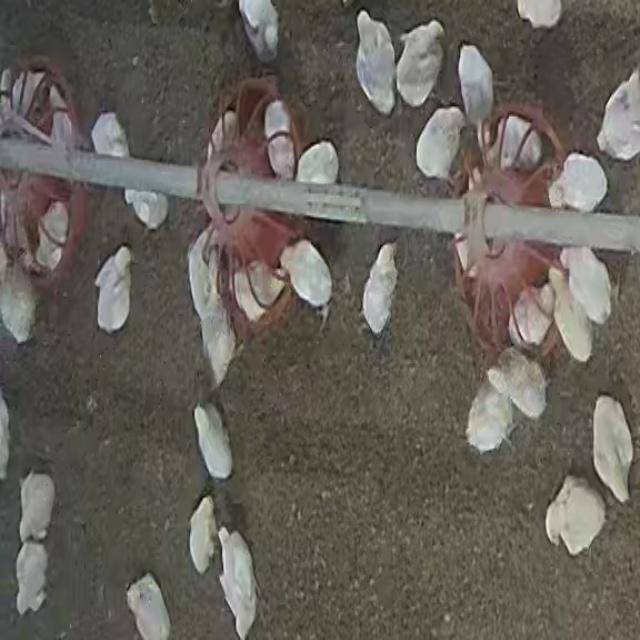chicken: (546, 476, 606, 556), (354, 9, 399, 115), (545, 266, 592, 362), (395, 20, 444, 110), (558, 244, 612, 324), (592, 397, 632, 505), (217, 531, 257, 635), (414, 106, 467, 184), (597, 68, 639, 160), (89, 108, 134, 184), (491, 360, 549, 418), (511, 276, 558, 347), (362, 245, 399, 335), (283, 239, 332, 306), (457, 42, 495, 126), (466, 385, 512, 454), (263, 99, 301, 182), (554, 152, 606, 211), (126, 575, 172, 638), (196, 405, 232, 484), (199, 312, 234, 390), (234, 264, 278, 326), (19, 473, 56, 545), (1, 268, 36, 344), (125, 166, 167, 229), (495, 115, 542, 169), (15, 543, 50, 615), (238, 0, 280, 60), (35, 201, 69, 272), (190, 496, 220, 575), (96, 267, 131, 334), (40, 79, 71, 154), (207, 107, 238, 174), (295, 142, 339, 188), (93, 247, 131, 292)
